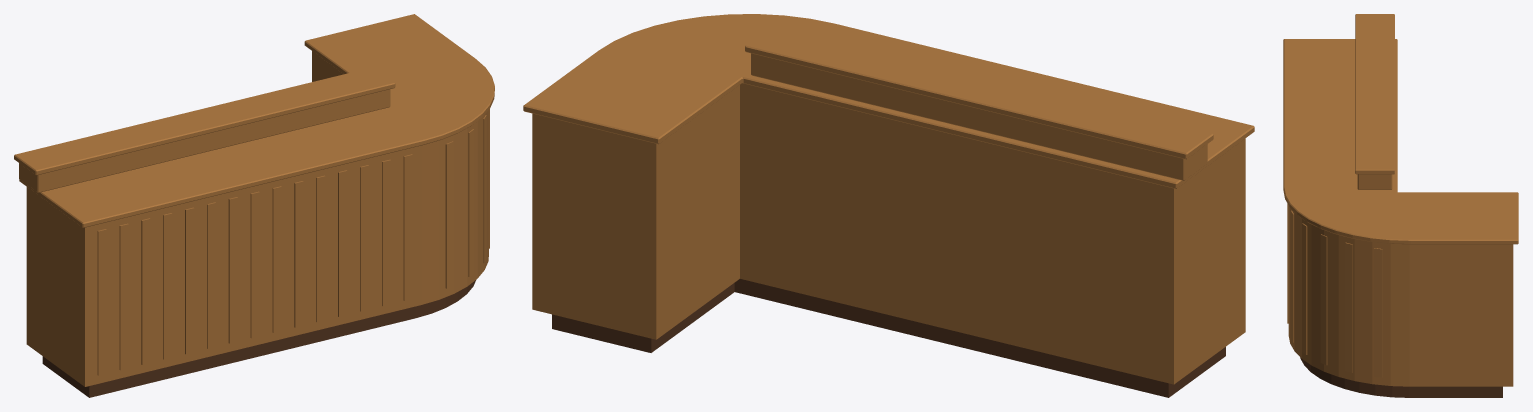
File: BalcaoDeCaixa.fbx
The picture shows the model from 3 angles, left to right: view 1: azimuth 30°, elevation 25°; view 2: azimuth 150°, elevation 25°; view 3: azimuth 270°, elevation 25°; orthographic projection. The views are drawn at different scales.
Parts seen in each view (by area): view 1: BalcaoDeCaixa; view 2: BalcaoDeCaixa; view 3: BalcaoDeCaixa.
Part boxes in pixels (left/top/right/bottom): BalcaoDeCaixa: left=14, top=14, right=494, bottom=397; BalcaoDeCaixa: left=523, top=14, right=1254, bottom=397; BalcaoDeCaixa: left=1283, top=14, right=1518, bottom=397.
Bounding box in the file's own units: 2.8 × 1.19 × 1.36.
